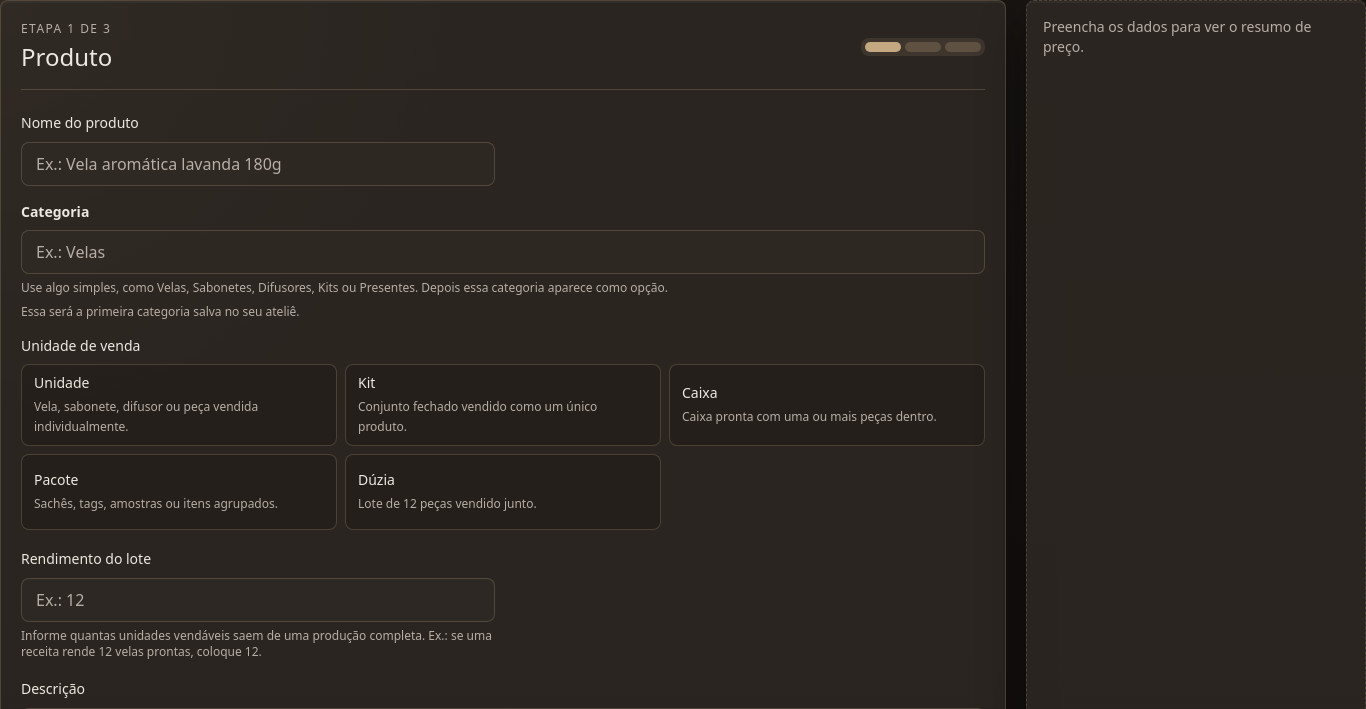
ProductForm › lets the user choose a different sale unit
Click the radio button labelled "Kit Conjunto fechado vendido como um único produto." at (503, 405), box [345,364,661,446]
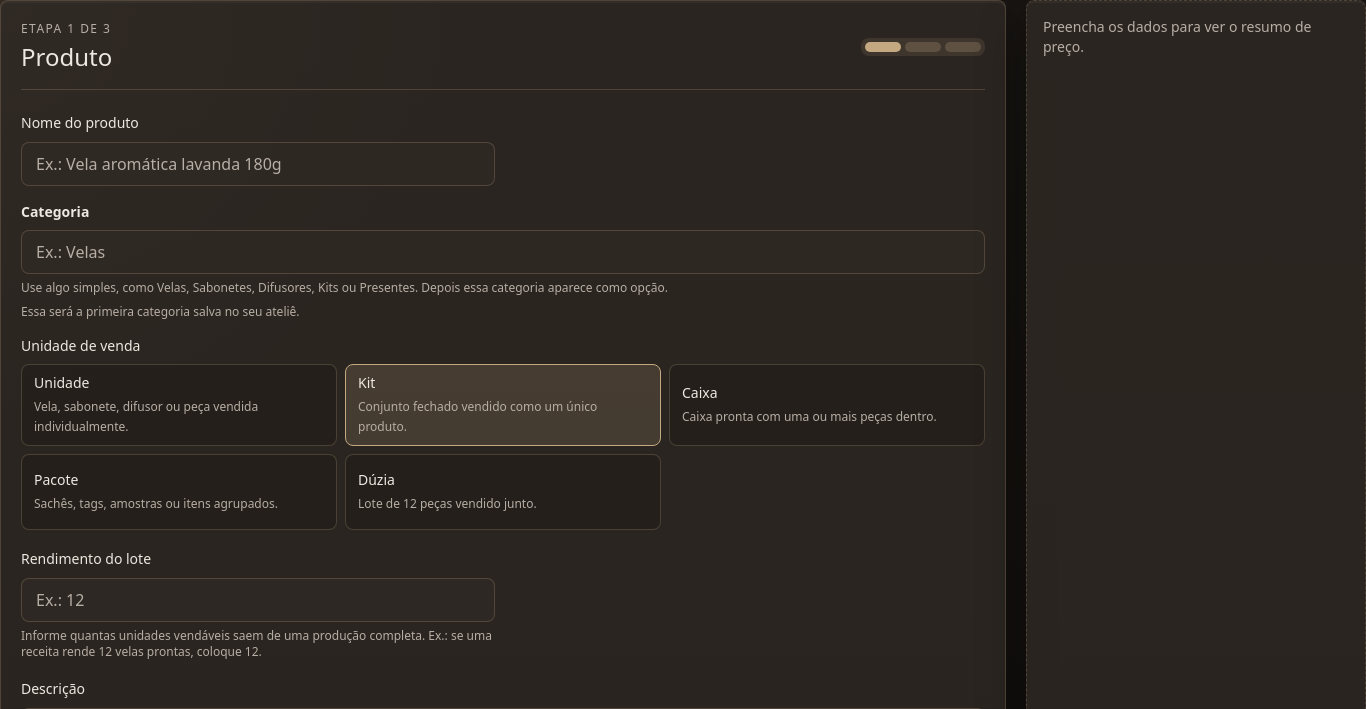
Result: the radio button labelled "Kit Conjunto fechado vendido como um único produto." is checked at [345,364,661,446]
